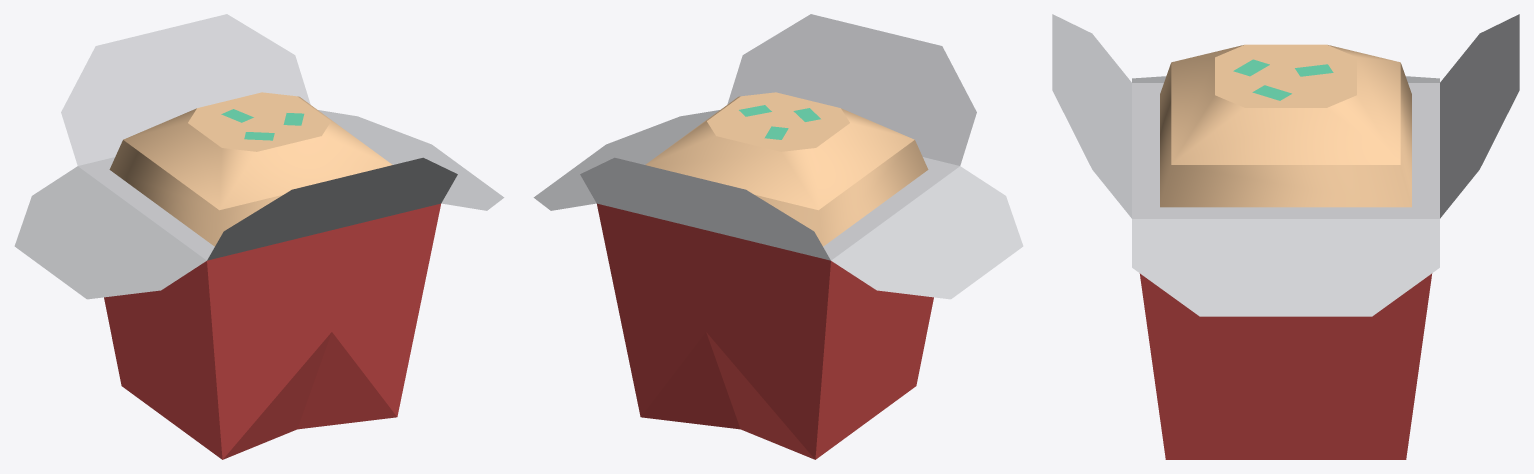
File: chinese.GLB
3 renders of one model, left to right at view 1: azimuth 30°, elevation 25°; view 2: azimuth 150°, elevation 25°; view 3: azimuth 270°, elevation 25°, orthographic. The views are drawn at different scales.
Visible parts, largest first — view 1: chinese; view 2: chinese; view 3: chinese.
Boxes of the visible parts, x1=… form: chinese: x1=14, y1=14, x2=504, y2=459; chinese: x1=533, y1=14, x2=1023, y2=459; chinese: x1=1052, y1=14, x2=1519, y2=459.
Bounding box in the file's own units: 0.5575 × 0.3826 × 0.4538.
